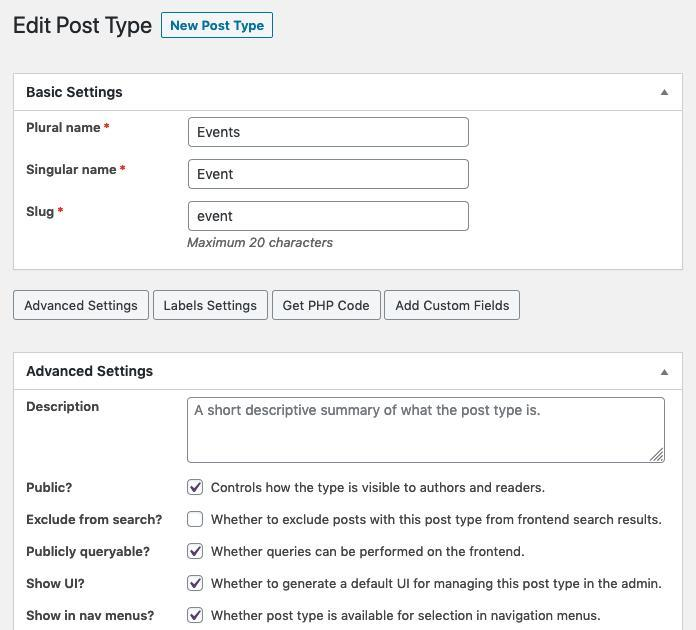button: (14, 291, 149, 322), (386, 292, 521, 320), (153, 291, 268, 320), (274, 292, 382, 321), (163, 14, 273, 38)
checkbox: (188, 512, 204, 528), (188, 575, 204, 591), (188, 481, 204, 496), (188, 545, 204, 560), (188, 609, 204, 624)
icon: (658, 86, 673, 103), (661, 366, 671, 380)
input: (189, 161, 469, 191), (190, 118, 470, 147), (190, 204, 469, 230)
label: (212, 603, 605, 623), (212, 513, 664, 527), (212, 577, 663, 591), (212, 543, 527, 560), (212, 482, 547, 496), (14, 13, 155, 38), (27, 362, 158, 382), (26, 513, 166, 529), (27, 608, 158, 624), (26, 545, 155, 561), (27, 85, 126, 103), (27, 162, 118, 179), (27, 121, 103, 137), (26, 400, 105, 415), (27, 576, 88, 592), (28, 479, 77, 497), (26, 204, 57, 219)
